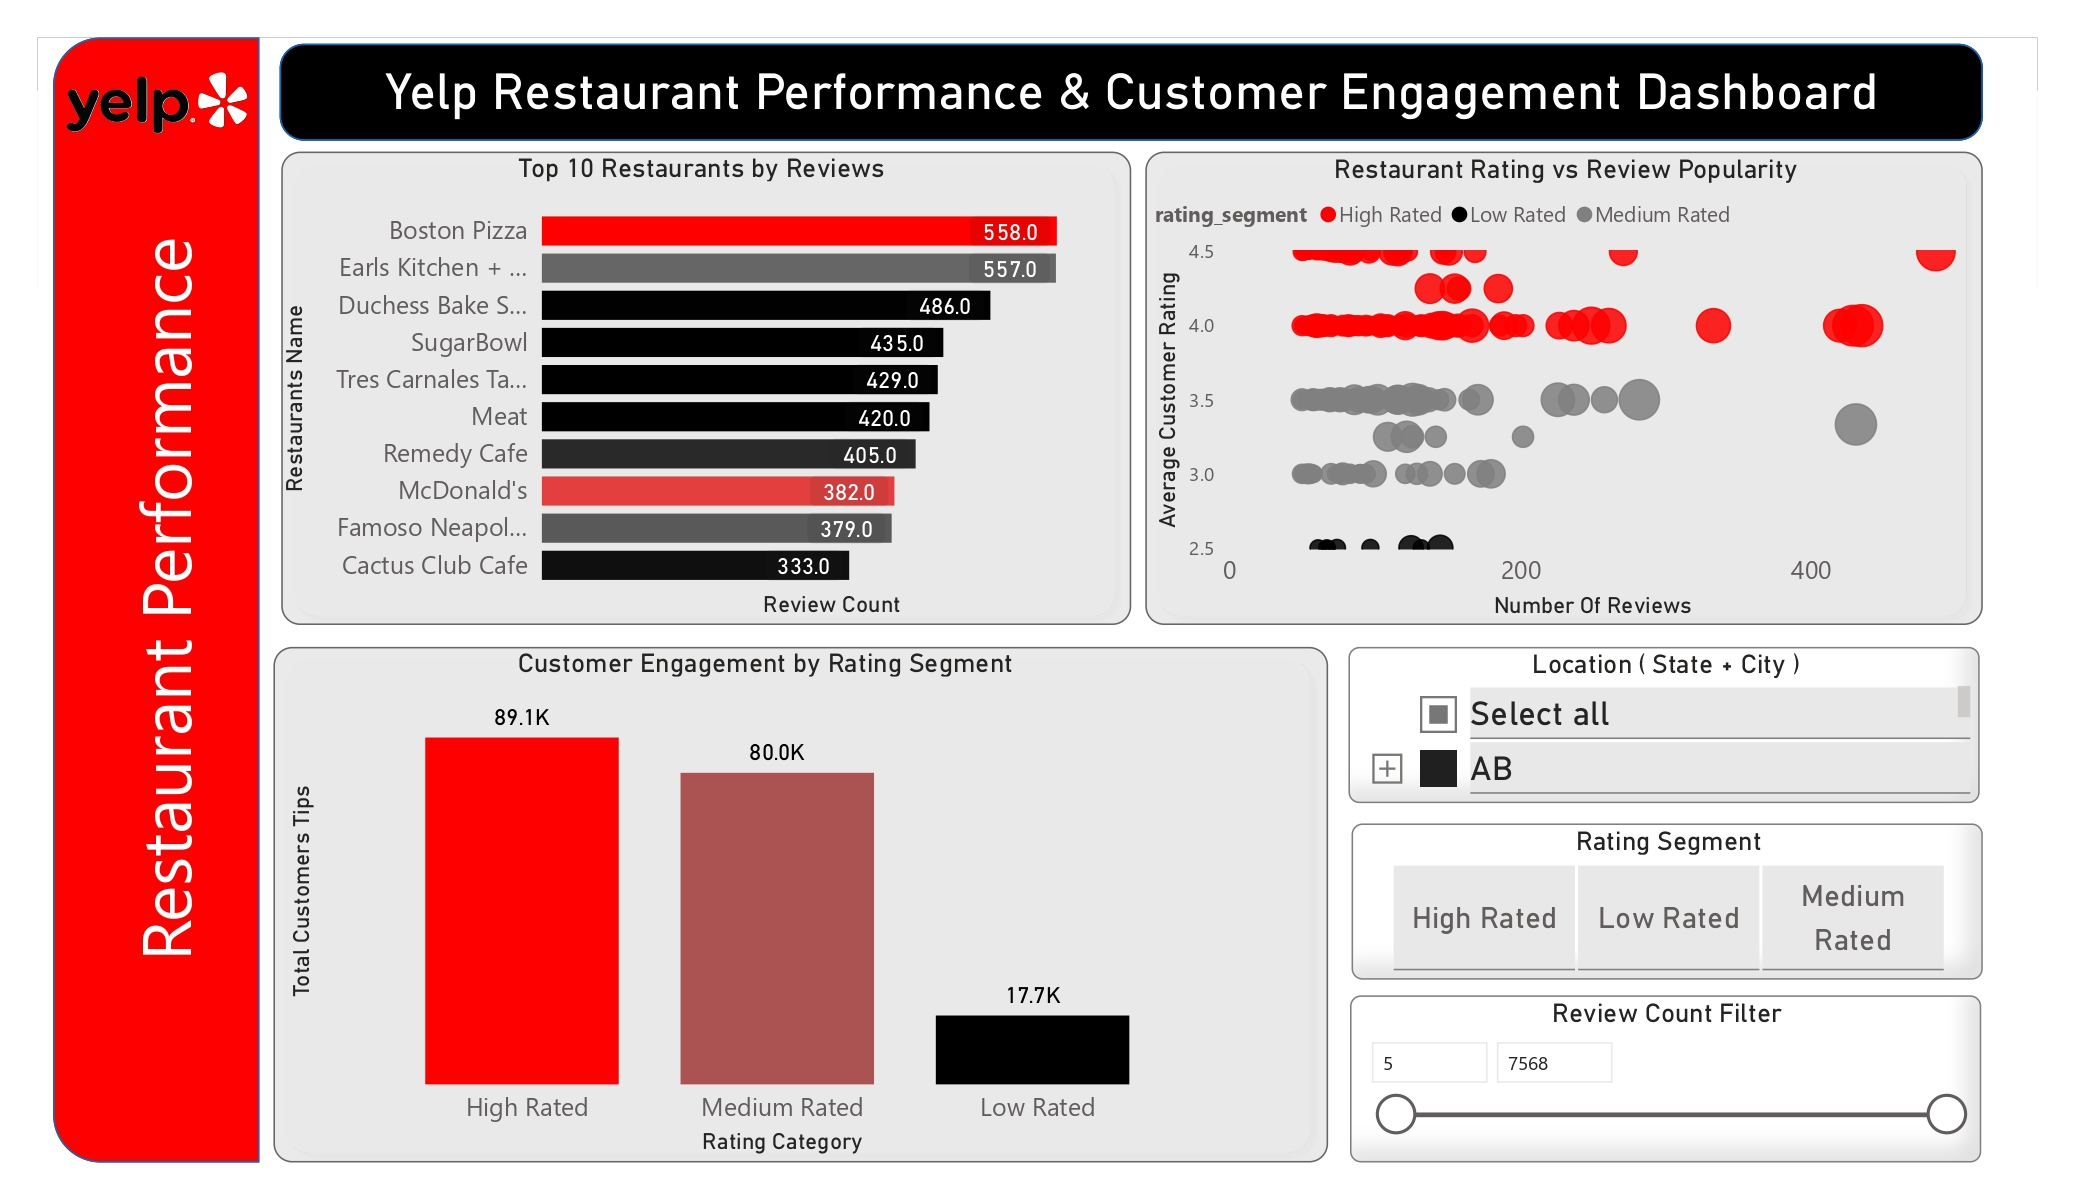

The dashboard page shown, as its layout file describes it:
{"tool":"powerbi","page":{"name":"Restaurant Performance","canvas":[1280,720],"ordinal":1},"visuals":[{"type":"shape","box":[10,0,132.1,720.2],"z":0,"group":"g2"},{"type":"group","id":"g1","title":"Group 2","box":[155.7,72.9,1088.6,302.9],"z":0},{"type":"shape","box":[155.7,72.9,544.3,302.9],"z":0,"group":"g1"},{"type":"group","id":"g2","title":"Group 1","box":[10,0,815.7,720.2],"z":1000},{"type":"shape","box":[708.6,72.9,535.7,302.9],"z":1000,"group":"g1"},{"type":"image","box":[0,0,155.3,85.6],"z":2000},{"type":"scatterChart","title":"Restaurant Rating vs Review Popularity","fields":{"X":["Sum(yelp_summary_dataset.review_count)"],"Y":["Avg(yelp_summary_dataset.avg_rating)"],"Size":["Sum(yelp_summary_dataset.total_tips)"],"Series":["yelp_summary_dataset.rating_segment"],"Category":["yelp_summary_dataset.name"]},"box":[710,74.3,535.7,301.4],"z":3000},{"type":"shape","box":[155.1,4.1,1089.5,61.7],"z":4000},{"type":"lineClusteredColumnComboChart","title":"Customer Engagement by Rating Segment","fields":{"Category":["yelp_summary_dataset.rating_segment"],"Y":["Table.Total Engagement"]},"box":[155.7,390,620,330],"z":5000},{"type":"slicer","title":"Location ( State + City )","fields":{"Values":["yelp_summary_dataset.state","yelp_summary_dataset.city"]},"box":[838.6,390,404.3,100],"z":6000},{"type":"slicer","title":"Review Count Filter","fields":{"Values":["yelp_summary_dataset.review_count"]},"box":[840,612.9,404.3,107.1],"z":7000},{"type":"shape","box":[151.4,390,674.3,330],"z":8000,"group":"g2"},{"type":"slicer","title":"Rating Segment","fields":{"Values":["yelp_summary_dataset.rating_segment"]},"box":[841.2,502.5,403.8,100],"z":8000},{"type":"clusteredBarChart","title":"Top 10 Restaurants by Reviews","fields":{"Category":["yelp_summary_dataset.name"],"Y":["Sum(yelp_summary_dataset.review_count)"]},"box":[151.4,72.9,547.1,302.9],"z":11000,"group":"g2"}]}

Visuals, with their boxes on the page's 1280x720 design canvas (x1, y1, x2, y2). These are canvas units, not pixel positions in the 2075x1200 screenshot, which may show the page scaled, cropped or inside an application window:
shape: bbox=[10, 0, 142, 720]
"Group 2" group: bbox=[156, 73, 1244, 376]
shape: bbox=[156, 73, 700, 376]
"Group 1" group: bbox=[10, 0, 826, 720]
shape: bbox=[709, 73, 1244, 376]
image: bbox=[0, 0, 155, 86]
"Restaurant Rating vs Review Popularity" scatterChart: bbox=[710, 74, 1246, 376]
shape: bbox=[155, 4, 1245, 66]
"Customer Engagement by Rating Segment" lineClusteredColumnComboChart: bbox=[156, 390, 776, 720]
"Location ( State + City )" slicer: bbox=[839, 390, 1243, 490]
"Review Count Filter" slicer: bbox=[840, 613, 1244, 720]
shape: bbox=[151, 390, 826, 720]
"Rating Segment" slicer: bbox=[841, 502, 1245, 602]
"Top 10 Restaurants by Reviews" clusteredBarChart: bbox=[151, 73, 698, 376]
